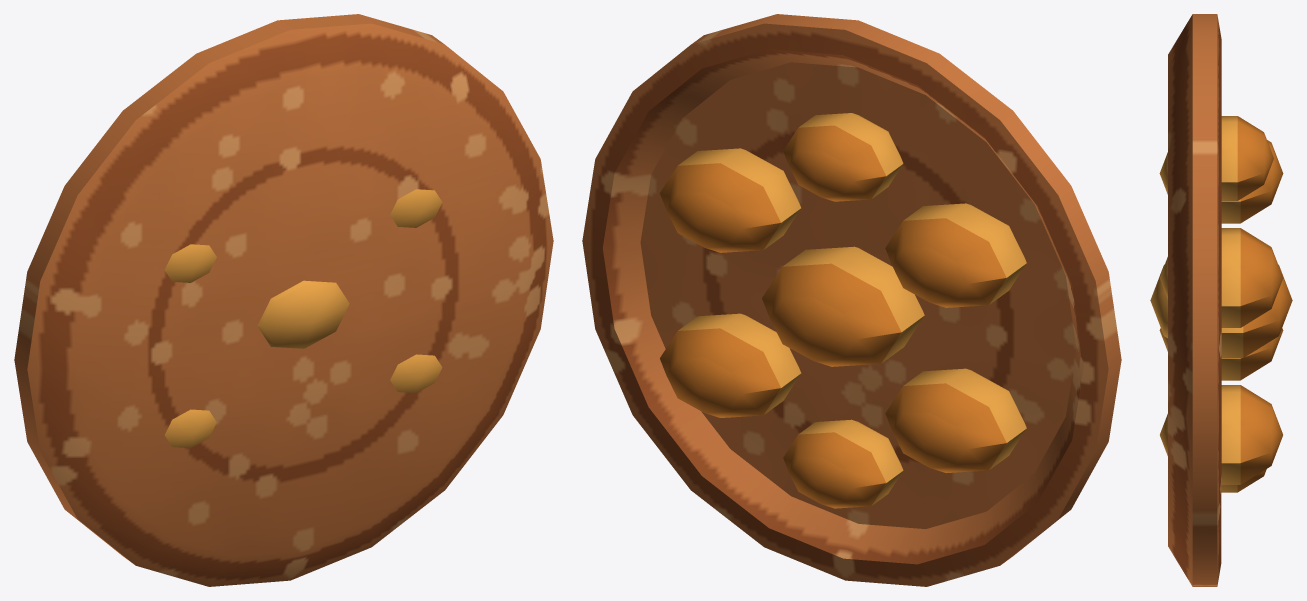
Rendered from pickup_magnet.glb.
3 views of the same model, side by side, from view 1: azimuth 30°, elevation 25°; view 2: azimuth 150°, elevation 25°; view 3: azimuth 270°, elevation 25° (orthographic). The views are drawn at different scales.
Visible parts, largest first — view 1: pickup_magnet; view 2: pickup_magnet; view 3: pickup_magnet.
Boxes of the visible parts, x1,y1,x2,y2 form: pickup_magnet: (14, 14, 553, 586); pickup_magnet: (582, 14, 1121, 586); pickup_magnet: (1150, 14, 1292, 586).
Bounding box in the file's own units: 0.7 × 0.7 × 0.1725.
1 material, 1 textured.
